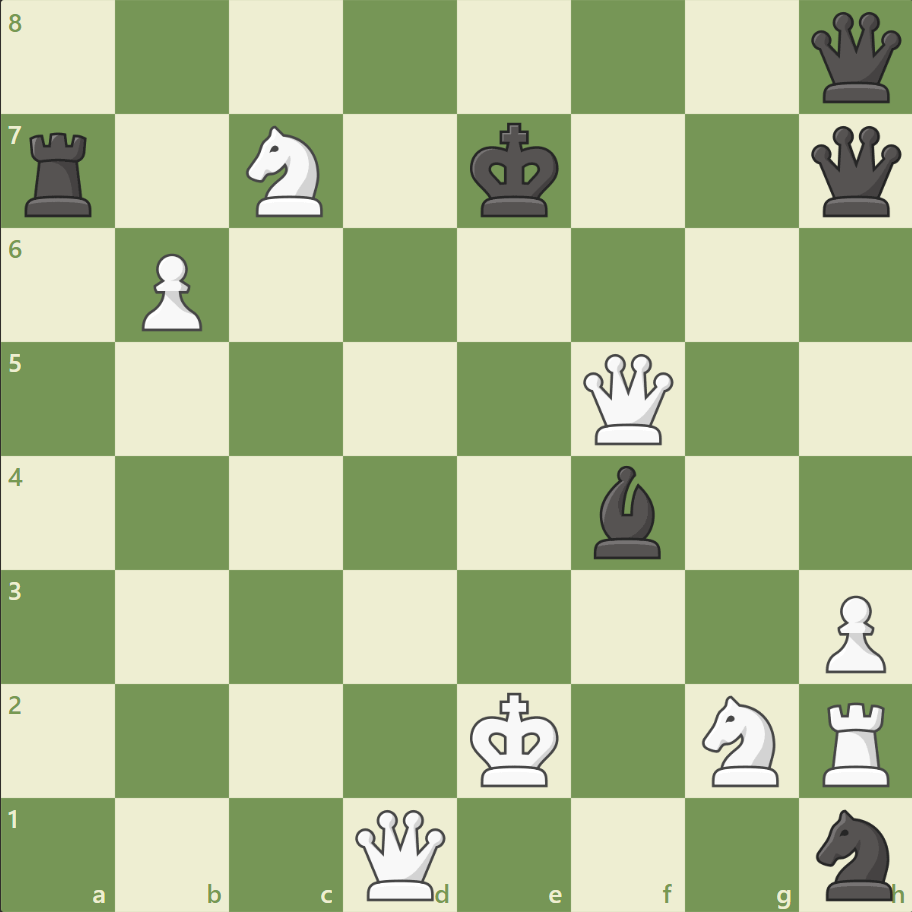K: (465, 685, 565, 793)
N: (692, 688, 789, 791), (238, 121, 335, 223)
P: (133, 246, 208, 337), (815, 586, 889, 677)
Q: (578, 349, 677, 449), (351, 804, 450, 903)
R: (814, 693, 897, 790)
b: (585, 460, 669, 563)
k: (465, 117, 565, 225)
n: (806, 802, 903, 904)
q: (805, 122, 904, 222), (805, 9, 904, 108)
r: (19, 125, 102, 222)
